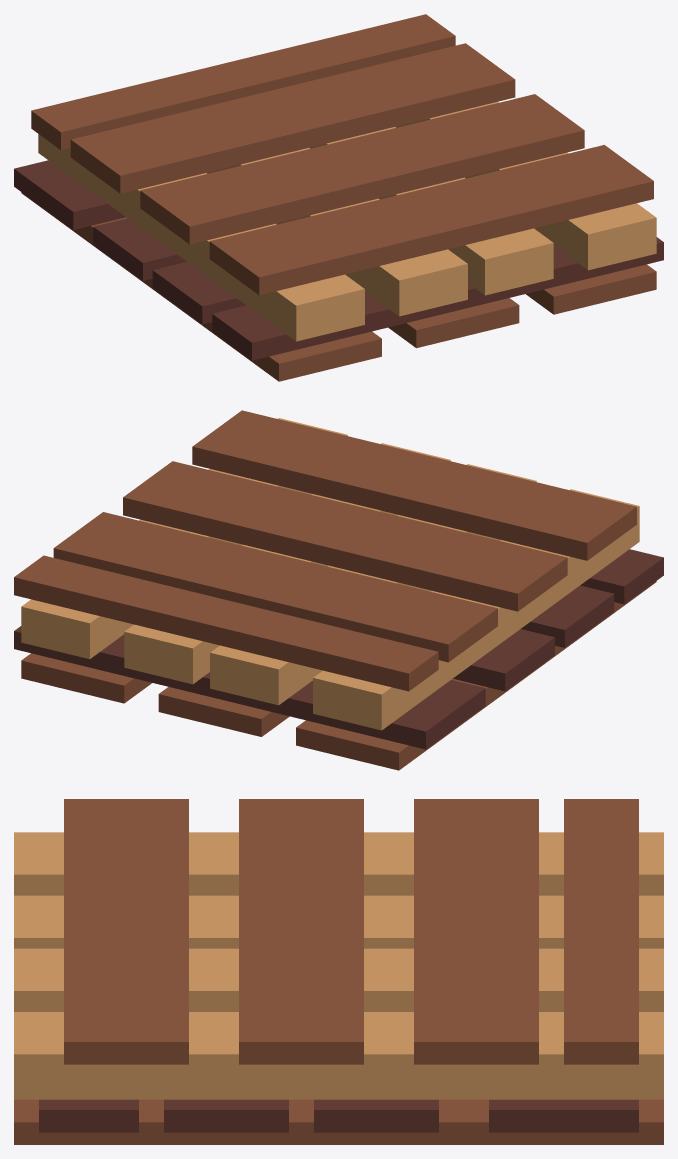
File: planks.obj
The picture shows the model from 3 angles, top to bottom: view 1: azimuth 30°, elevation 25°; view 2: azimuth 150°, elevation 25°; view 3: azimuth 270°, elevation 25°; orthographic projection. The views are drawn at different scales.
Bounding box in the file's own units: 2.4 × 0.5 × 2.6.
Materials: 1 (1 with a texture image).
